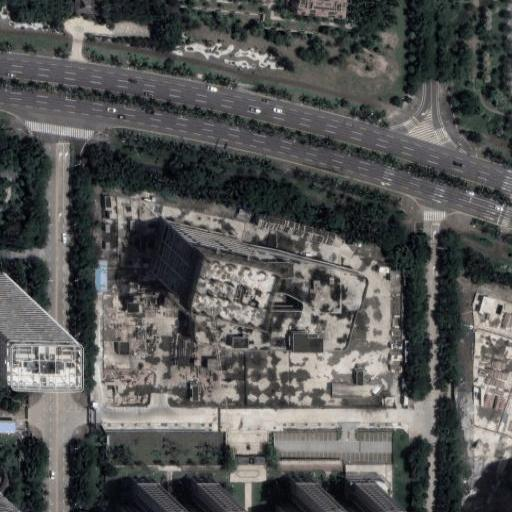building: (154, 224, 260, 304), (298, 0, 346, 18), (133, 486, 162, 512), (192, 486, 221, 512), (292, 486, 321, 512), (350, 486, 379, 512), (289, 332, 324, 353), (95, 257, 111, 291), (0, 275, 11, 322), (74, 0, 95, 13), (0, 419, 17, 435), (234, 337, 246, 352), (192, 384, 201, 400)
